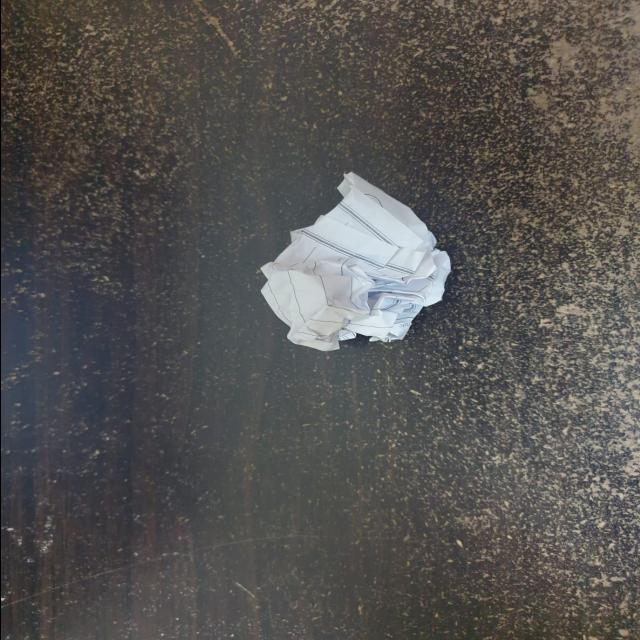kertas: (248, 170, 454, 350)
